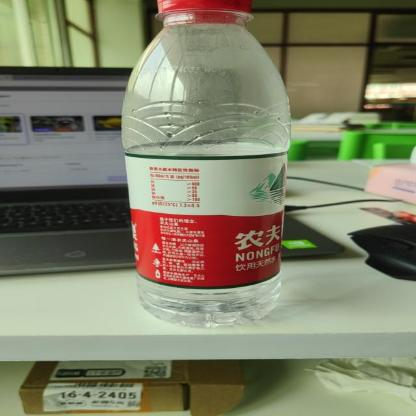Plastic Bottle: (120, 0, 292, 328)
